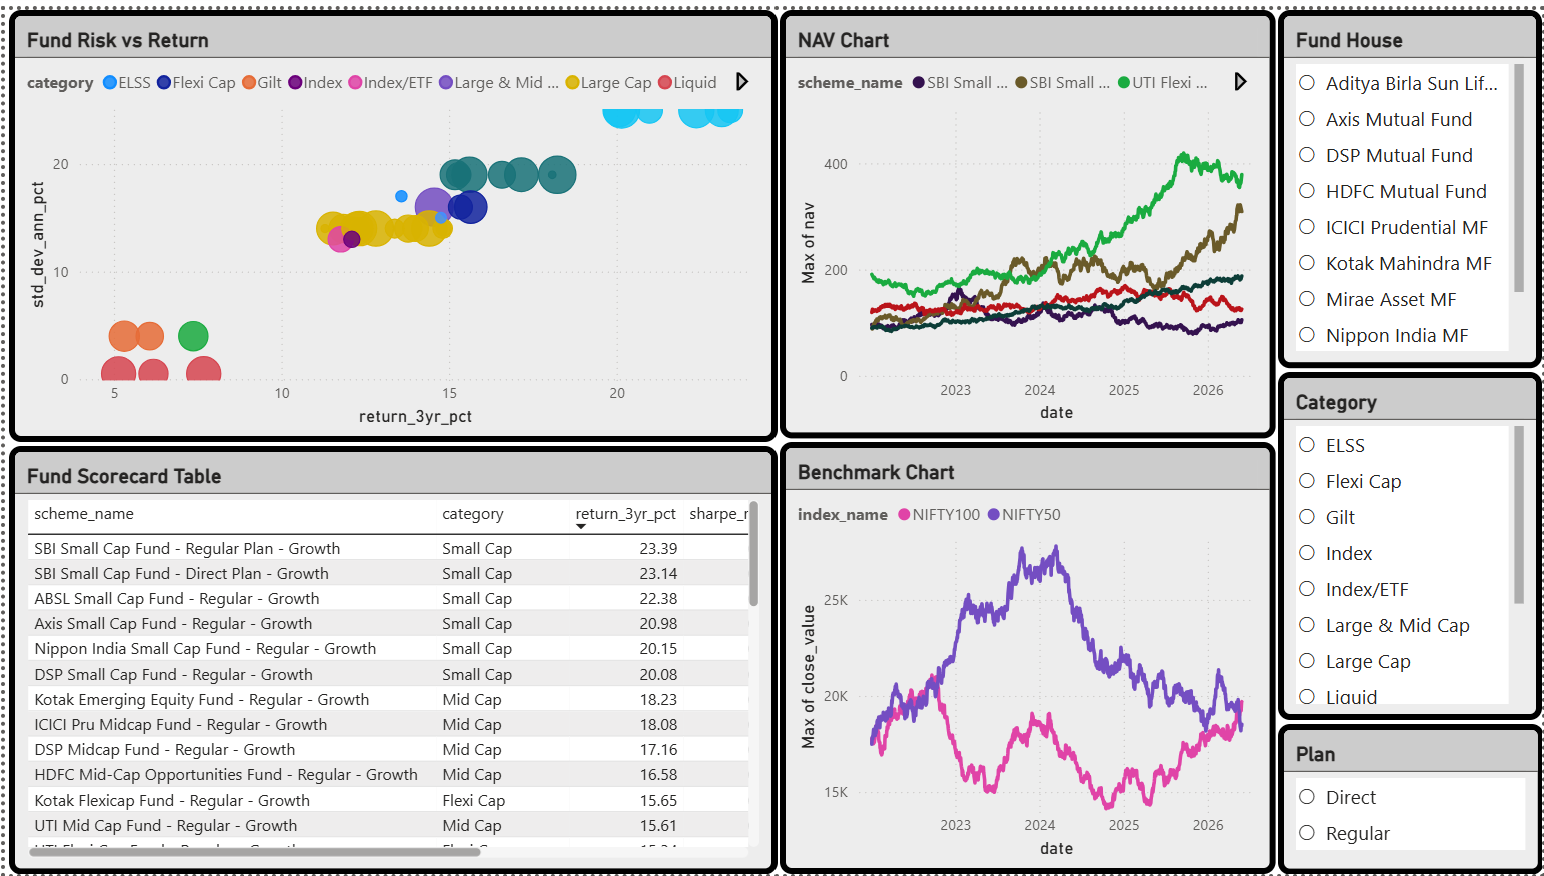

The dashboard page shown, as its layout file describes it:
{"tool":"powerbi","page":{"name":"Fund Performance","canvas":[1280,720],"ordinal":1},"visuals":[{"type":"scatterChart","title":"Fund Risk vs Return","fields":{"X":["clean_scheme_performance.return_3yr_pct"],"Y":["clean_scheme_performance.std_dev_ann_pct"],"Size":["Max(clean_scheme_performance.aum_crore)"],"Series":["clean_scheme_performance.category"]},"box":[2.9,0,640,360],"z":0},{"type":"tableEx","title":"Fund Scorecard Table","fields":{"Values":["clean_scheme_performance.scheme_name","clean_scheme_performance.category","clean_scheme_performance.return_3yr_pct","clean_scheme_performance.sharpe_ratio","clean_scheme_performance.alpha","clean_scheme_performance.beta","clean_scheme_performance.expense_ratio_pct","clean_scheme_performance.max_drawdown_pct"]},"box":[2.9,362.9,640,357.1],"z":1000},{"type":"listSlicer","title":"Fund House","fields":{"Values":["clean_scheme_performance.fund_house"]},"box":[1060,0,220,298.6],"z":2000},{"type":"listSlicer","title":"Category","fields":{"Values":["clean_scheme_performance.category"]},"box":[1060,301.4,220,290],"z":3000},{"type":"listSlicer","title":"Plan","fields":{"Values":["clean_scheme_performance.plan"]},"box":[1060,594.3,221.4,125.7],"z":4000},{"type":"lineChart","title":"NAV Chart","fields":{"Category":["clean_nav_history.date"],"Y":["Max(clean_nav_history.nav)"],"Series":["clean_scheme_performance.scheme_name"]},"box":[644.3,0,412.9,357.1],"z":5000},{"type":"lineChart","title":"Benchmark Chart","fields":{"Category":["10_benchmark_indices.date"],"Y":["Max(10_benchmark_indices.close_value)"],"Series":["10_benchmark_indices.index_name"]},"box":[644.3,360,412.9,360],"z":6000}]}

Visuals, with their boxes in screenshot pixels (x1, y1, x2, y2), scaled from the page's 1280x720 canvas onto the 1544x876 screenshot:
"Fund Risk vs Return" scatterChart: [left=3, top=0, right=775, bottom=438]
"Fund Scorecard Table" tableEx: [left=3, top=442, right=775, bottom=875]
"Fund House" listSlicer: [left=1279, top=0, right=1543, bottom=363]
"Category" listSlicer: [left=1279, top=367, right=1543, bottom=720]
"Plan" listSlicer: [left=1279, top=723, right=1543, bottom=875]
"NAV Chart" lineChart: [left=777, top=0, right=1275, bottom=434]
"Benchmark Chart" lineChart: [left=777, top=438, right=1275, bottom=875]
